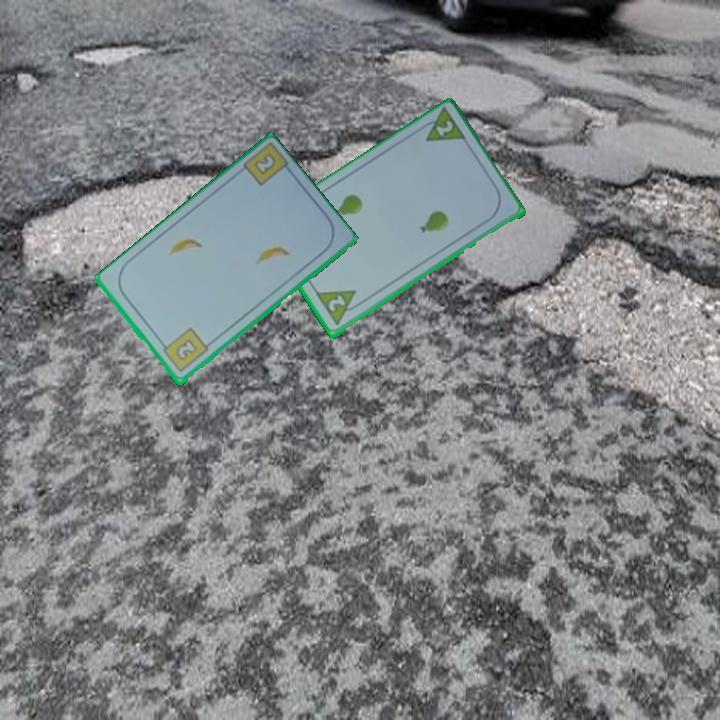2b: (157, 325, 211, 376), (250, 150, 279, 178)
2p: (313, 286, 366, 329), (432, 117, 456, 140)
